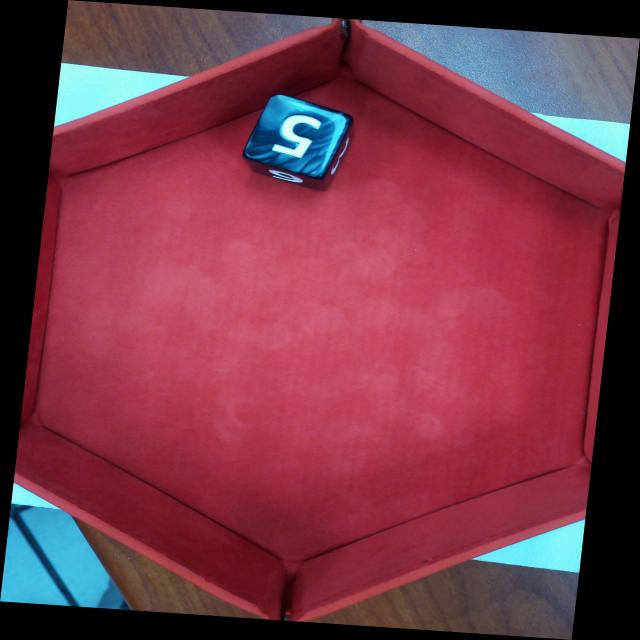dice: (238, 90, 357, 183)
